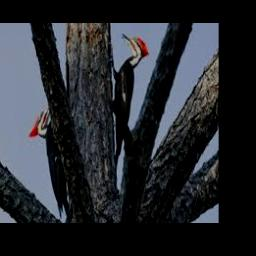Woodpecker: (109, 34, 148, 166), (28, 98, 69, 218)
